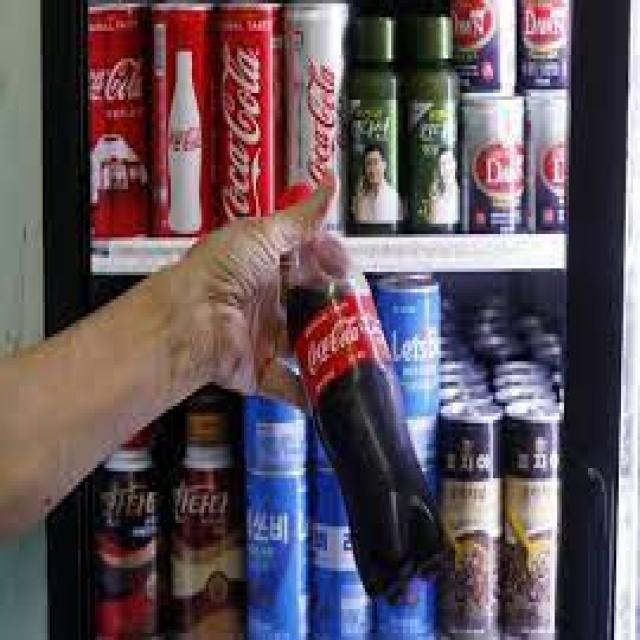Coca-Cola: (150, 0, 218, 248), (214, 0, 280, 242), (88, 0, 151, 241)
